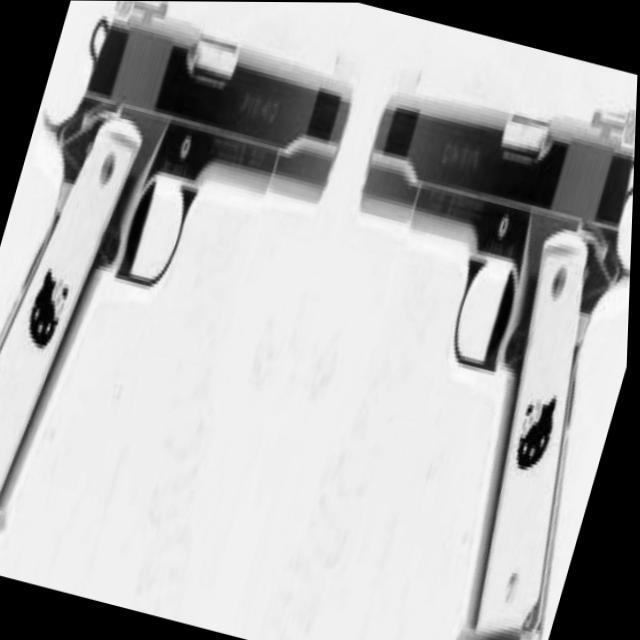weapon: (236, 35, 639, 640), (0, 0, 373, 622)
